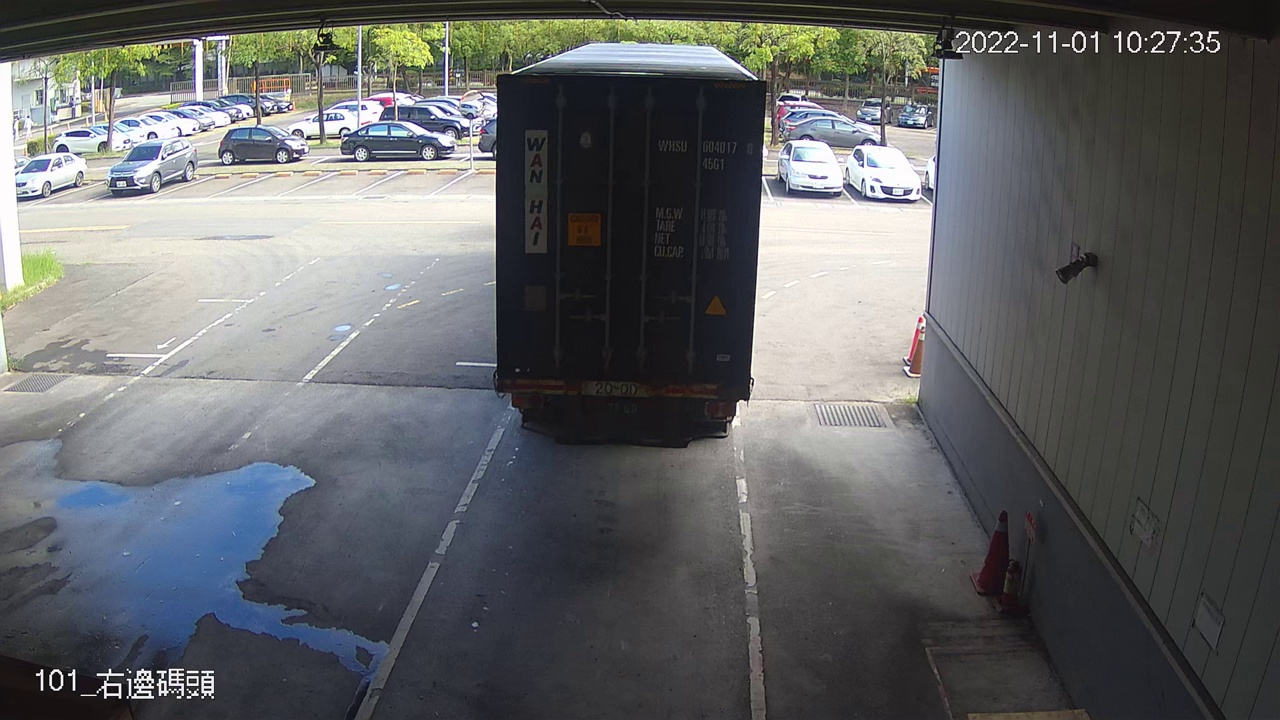container: (652, 132, 757, 176)
